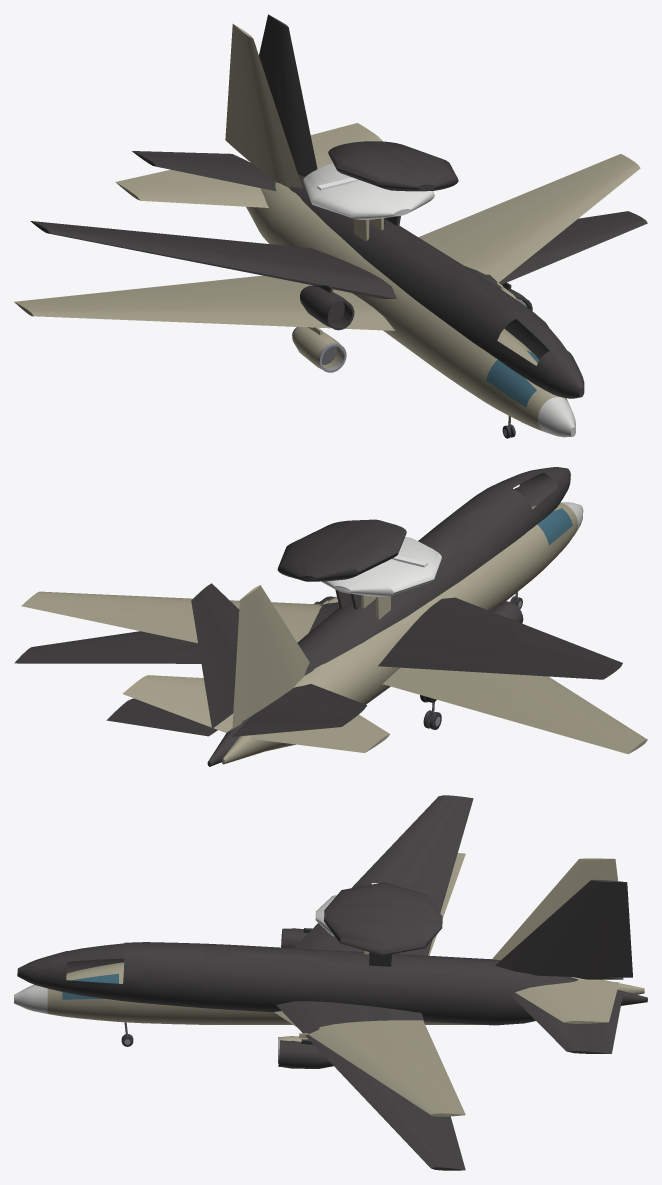
The model's file is aewc__e_767.glb.
3 views of the same model, one above another, from view 1: azimuth 30°, elevation 25°; view 2: azimuth 150°, elevation 25°; view 3: azimuth 270°, elevation 25° (orthographic). The views are drawn at different scales.
Visible parts, largest first — view 1: Fuselage_Mesh, Wreck, Radar_Mesh; view 2: Wreck, Fuselage_Mesh, Radar_Mesh; view 3: Wreck, Fuselage_Mesh.
Part boxes in pixels (x1,y1,x2,y2): Fuselage_Mesh: (14, 24, 640, 438); Wreck: (30, 14, 647, 398); Radar_Mesh: (303, 161, 434, 219); Wreck: (14, 467, 622, 766); Fuselage_Mesh: (21, 502, 647, 764); Radar_Mesh: (320, 537, 441, 596); Wreck: (17, 795, 647, 1170); Fuselage_Mesh: (14, 853, 644, 1116).
Size of what is drawn, in the model's own units: 48.16 by 15.85 by 48.75.
